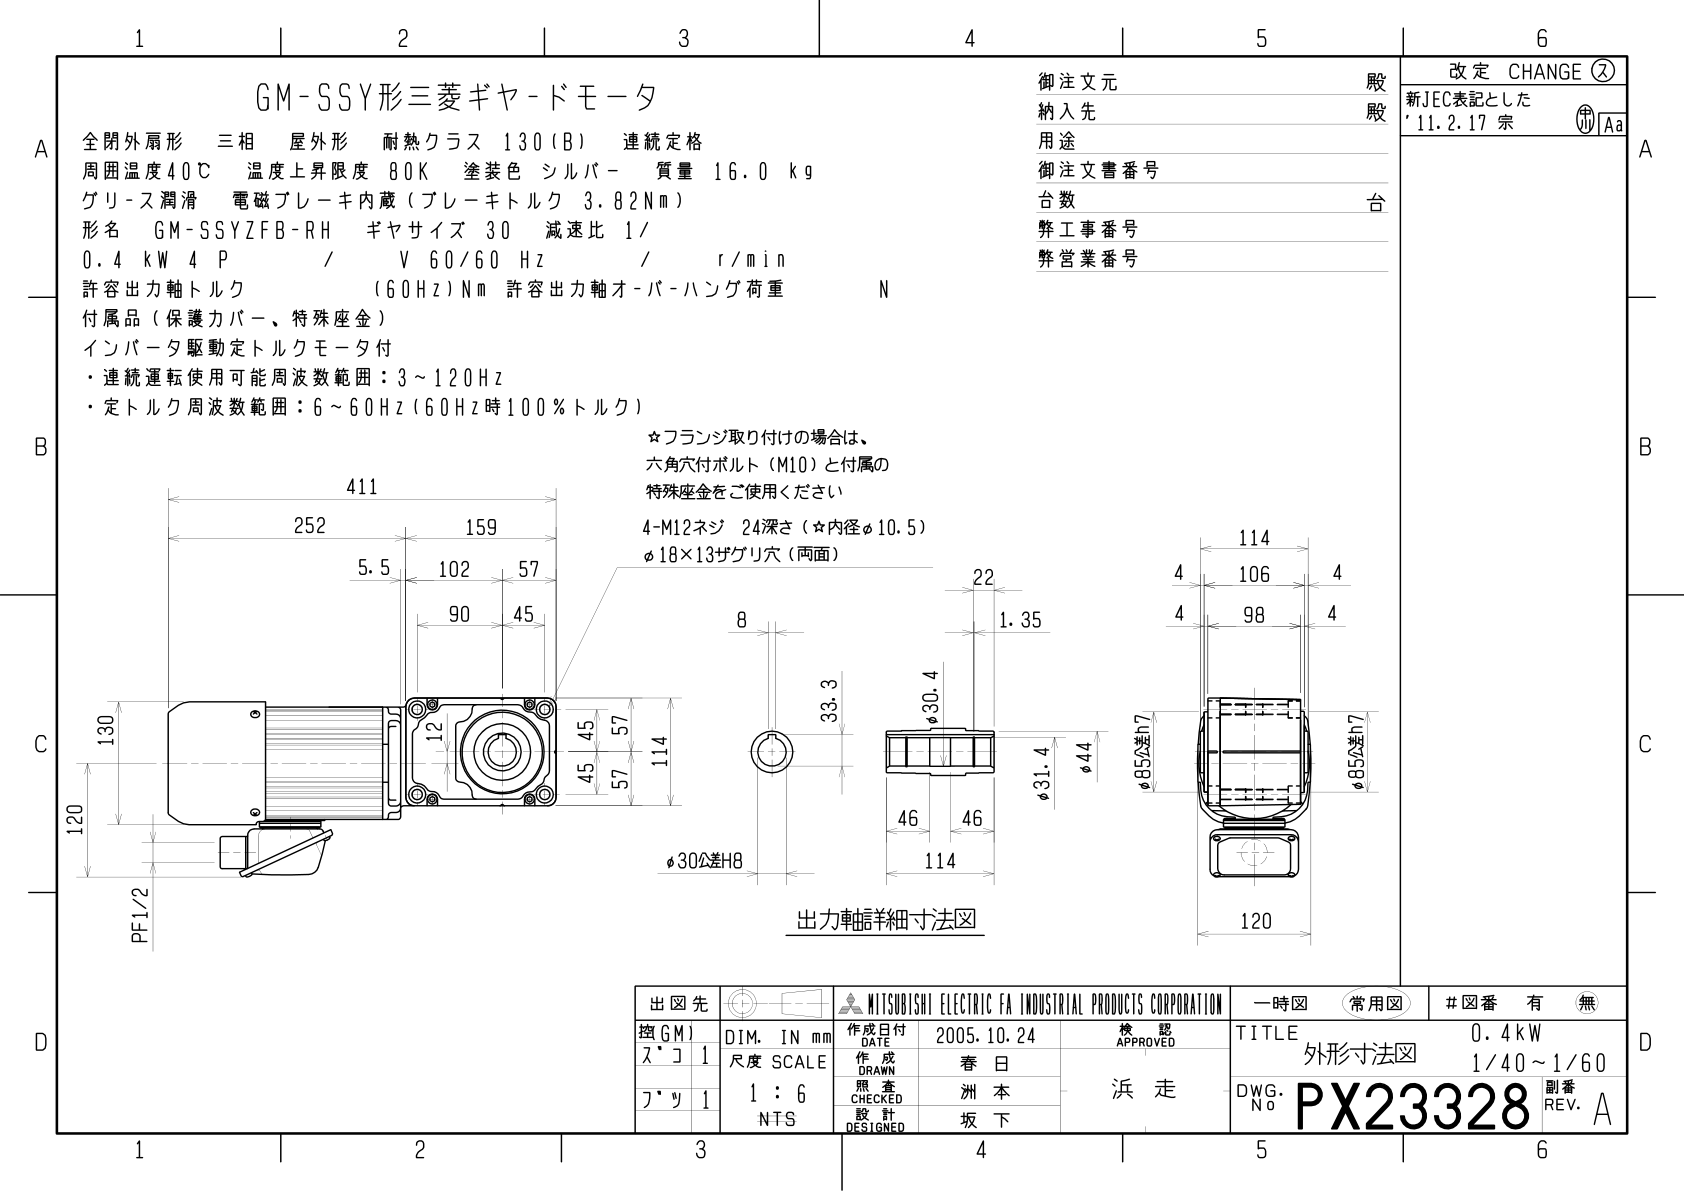GM_SSY_インバータ屋外_三相: (58, 400, 1379, 962)
